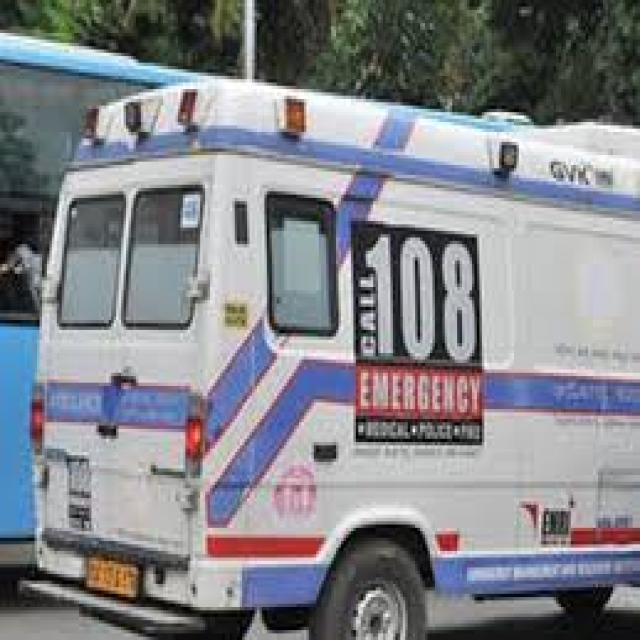Ambulance: (20, 72, 640, 640)
